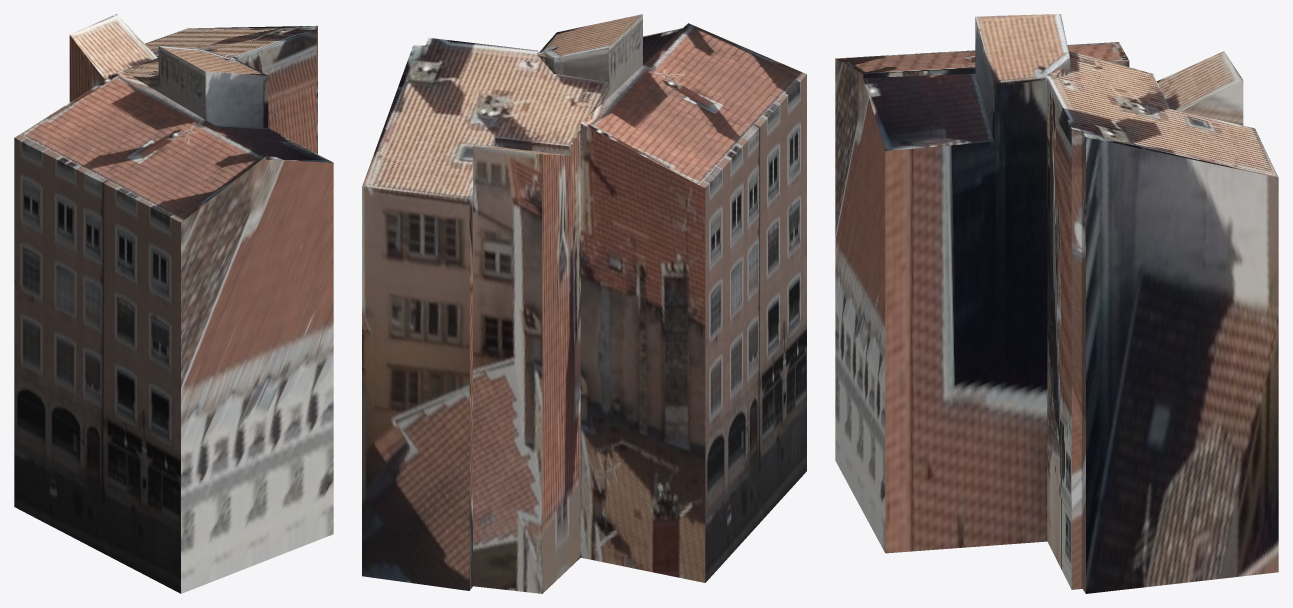
3 renders of one model, left to right at view 1: azimuth 30°, elevation 25°; view 2: azimuth 150°, elevation 25°; view 3: azimuth 270°, elevation 25°, orthographic. The views are drawn at different scales.
Visible parts, largest first — view 1: Z_UP; view 2: Z_UP; view 3: Z_UP.
Part boxes in pixels (x1,y1,x2,y2): Z_UP: (14,14,333,593); Z_UP: (362,14,806,593); Z_UP: (835,14,1278,593).
Bounding box in the file's own units: 16.48 × 24.76 × 20.26.
Materials: 2 (1 with a texture image).
